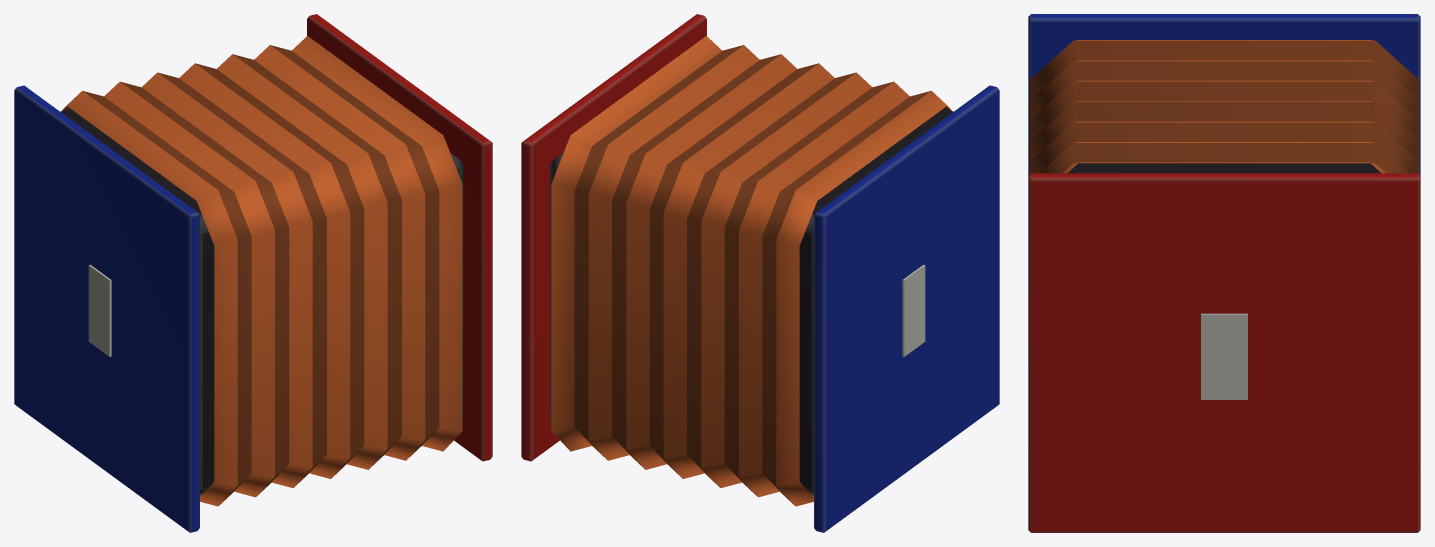
The model's file is magnet_core.glb.
3 views of the same model, side by side, from view 1: azimuth 30°, elevation 25°; view 2: azimuth 150°, elevation 25°; view 3: azimuth 270°, elevation 25° (orthographic). The views are drawn at different scales.
Parts seen in each view (by area): view 1: Mesh; view 2: Mesh; view 3: Mesh.
Boxes of the visible parts, bbox=[...] form: Mesh: bbox=[14, 14, 492, 532]; Mesh: bbox=[521, 14, 999, 532]; Mesh: bbox=[1028, 14, 1420, 532].
Size of the model in its own units: 0.506 by 0.5 by 0.5.
